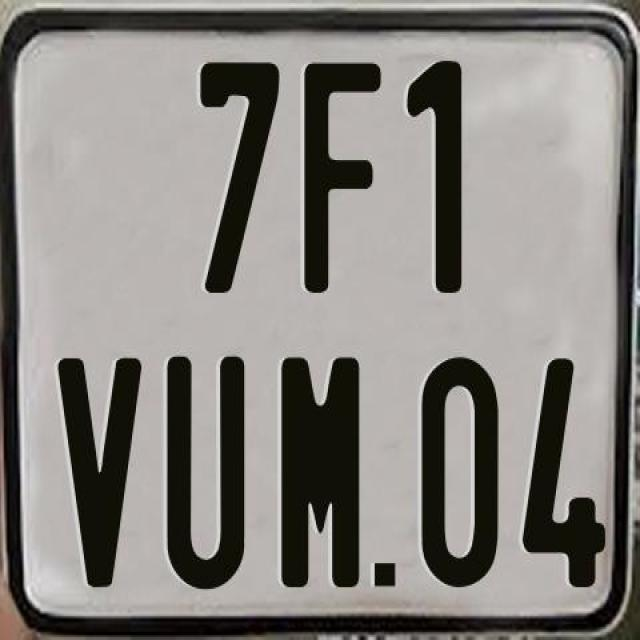0: (422, 356, 506, 588)
1: (406, 56, 464, 290)
4: (520, 353, 603, 582)
7: (198, 63, 282, 294)
F: (301, 58, 383, 292)
M: (278, 357, 362, 589)
U: (165, 352, 251, 590)
V: (53, 357, 144, 586)
